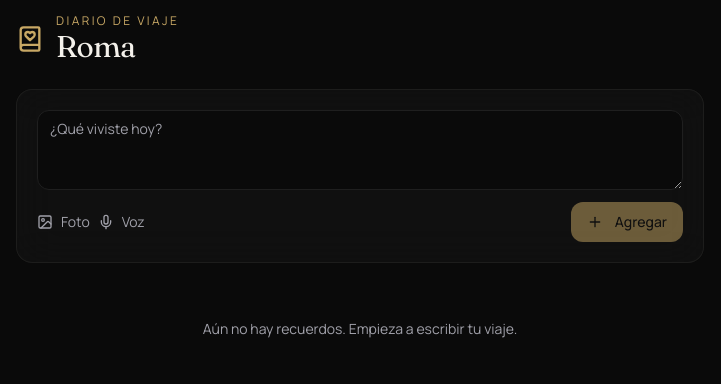
Test: nota de voz en el diario (grabación + transcripción en el servidor) › mientras pide permiso explica para qué es el micrófono
This screenshot has width=721, height=384.
Expected: the heading "Roma" is shown, [56, 28, 136, 65]
What coordinates should you click on to do the following:
click the button with aria-label "Grabar nota de voz"
I would click on:
 (121, 222)
Its box is [98, 212, 145, 232].
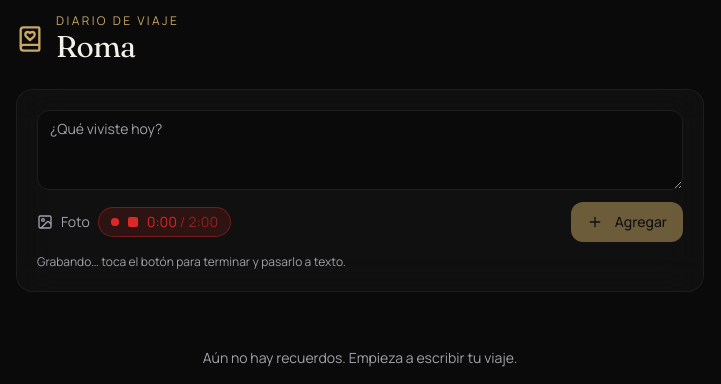
Now the text "Grabando… toca el botón para terminar y pasarlo a texto." is shown, box [37, 253, 346, 270]
Now the element with test id "voice-timer" is shown, box [147, 212, 218, 232]
